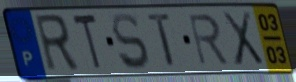R: (32, 12, 82, 75), (185, 11, 231, 68)
S: (110, 11, 152, 72)
T: (70, 12, 103, 73), (146, 11, 178, 71)
X: (219, 9, 266, 69)
